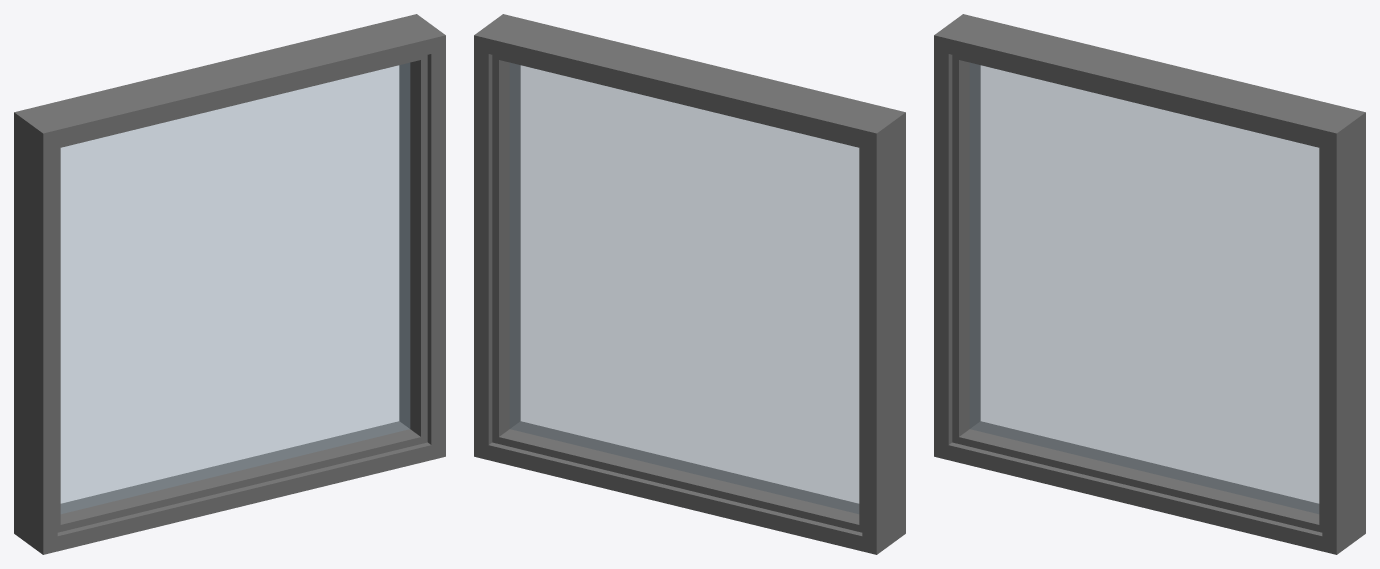
The model's file is Window.glb.
3 renders of one model, left to right at view 1: azimuth 30°, elevation 25°; view 2: azimuth 150°, elevation 25°; view 3: azimuth 330°, elevation 25°, orthographic.
Parts seen in each view (by area): view 1: Window; view 2: Window; view 3: Window.
Part boxes in pixels (left/top/right/bottom): Window: left=14, top=14, right=445, bottom=554; Window: left=474, top=14, right=905, bottom=554; Window: left=934, top=14, right=1365, bottom=554.
Bounding box in the file's own units: 8 × 8 × 1.
